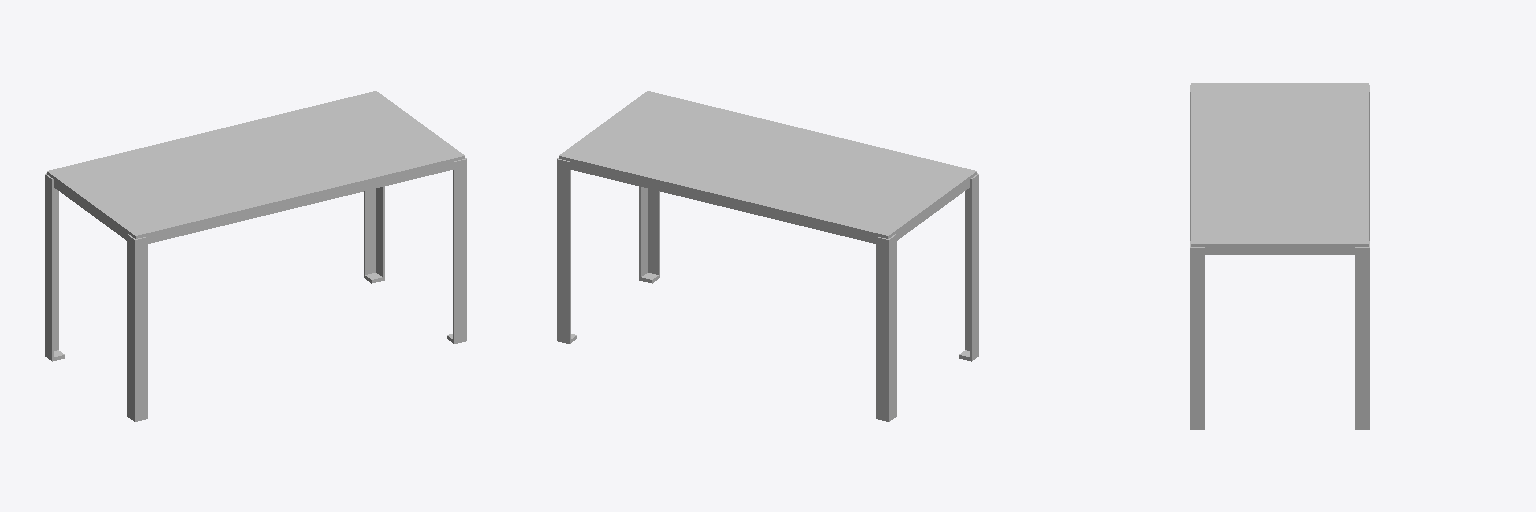
Rendered from ShipScene_8.obj.
The picture shows the model from 3 angles: view 1: azimuth 30°, elevation 25°; view 2: azimuth 150°, elevation 25°; view 3: azimuth 270°, elevation 25°; orthographic projection.
Size of the model in its own units: 47.56 by 25.31 by 22.41.